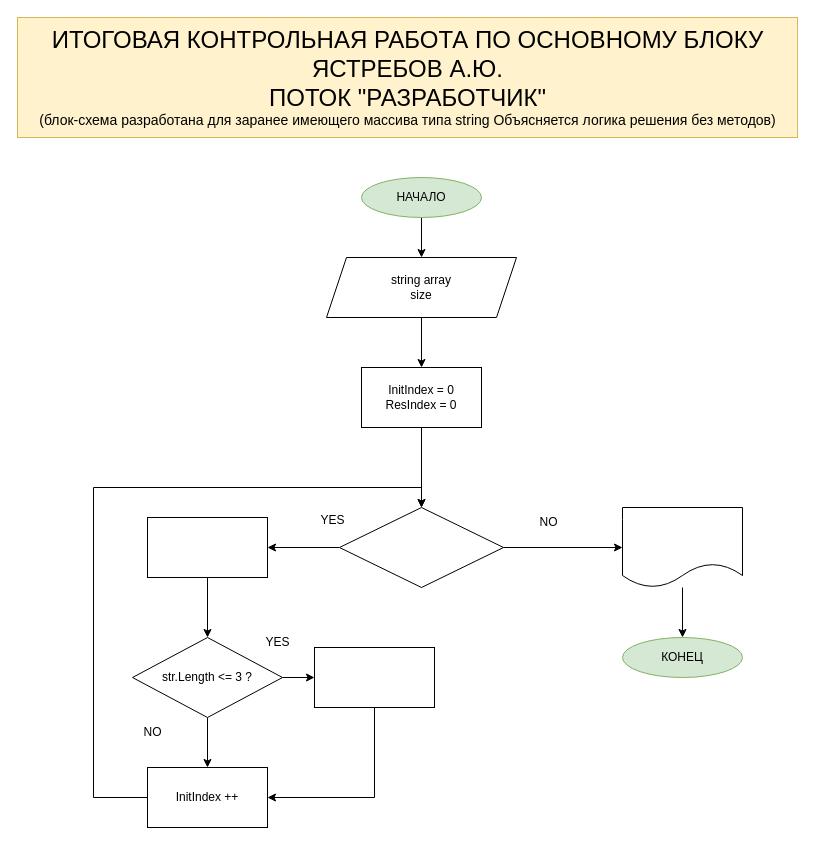
Some shapes in this 815 by 845 pixel diagram are drawn without their labels. Each missing label, with the centre of its shape:
"InitIndex < size" goes at point (421, 547).
"result" goes at point (682, 547).
"str = array [InitIndex]" goes at point (207, 547).
"string result [ResIndex] = str ResIndex++" goes at point (374, 677).
